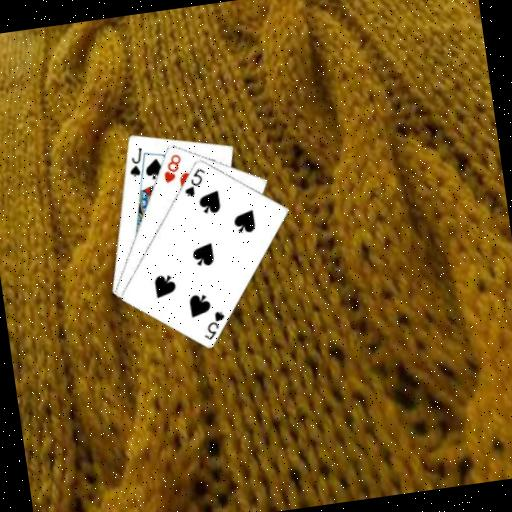5S: (179, 164, 210, 199), (198, 307, 229, 342)
8H: (158, 151, 186, 186)
JS: (123, 145, 147, 180)
